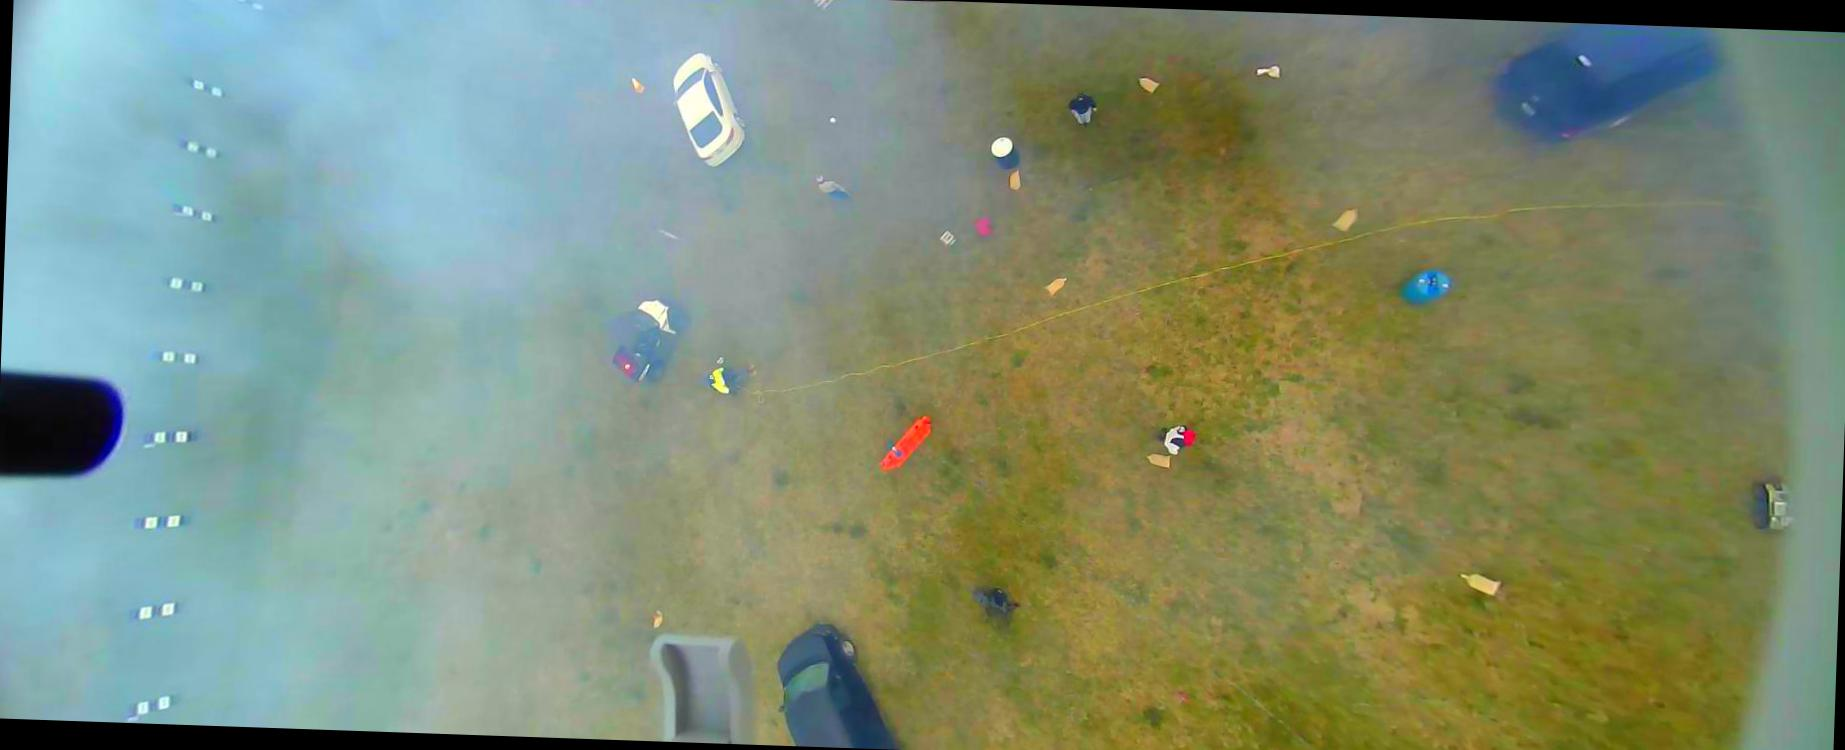vehicle: (1494, 22, 1724, 147), (775, 620, 905, 749), (667, 48, 750, 170), (611, 297, 692, 386)
